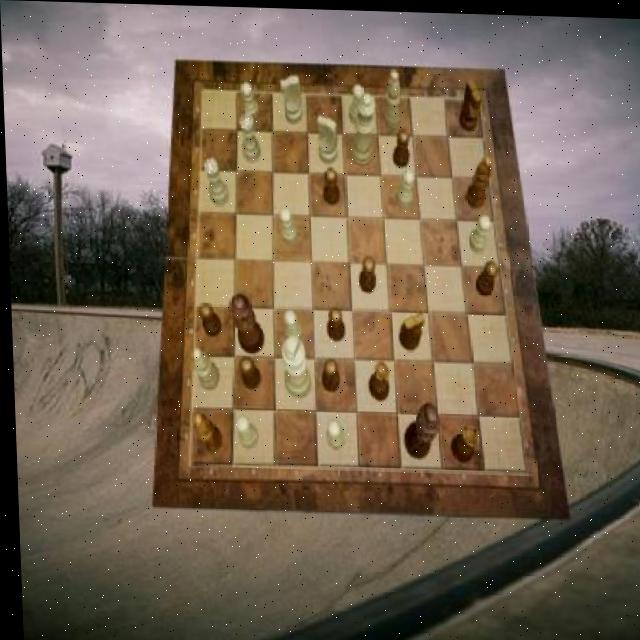bishop: (463, 152, 493, 207), (190, 412, 221, 452)
black-bishop: (399, 400, 438, 458)
black-king: (457, 75, 482, 130), (396, 309, 424, 348)
black-knight: (473, 259, 497, 294), (238, 354, 260, 389), (198, 301, 220, 336), (391, 126, 410, 165), (322, 164, 340, 203), (318, 356, 338, 391), (356, 254, 374, 291), (324, 306, 342, 340)
black-pawn: (227, 293, 263, 352)
black-queen: (447, 422, 476, 461), (365, 359, 389, 400)
black-rook: (188, 345, 217, 389), (380, 69, 400, 127)
white-bishop: (279, 334, 310, 397)
white-king: (280, 74, 303, 124), (317, 114, 338, 162)
white-knight: (466, 212, 490, 251), (233, 414, 257, 449), (394, 166, 414, 205), (278, 205, 297, 243), (241, 81, 260, 119), (348, 82, 365, 124), (283, 308, 301, 342), (323, 418, 341, 448)
white-pawn: (349, 91, 378, 164)
white-queen: (203, 157, 228, 205), (240, 112, 262, 161)
